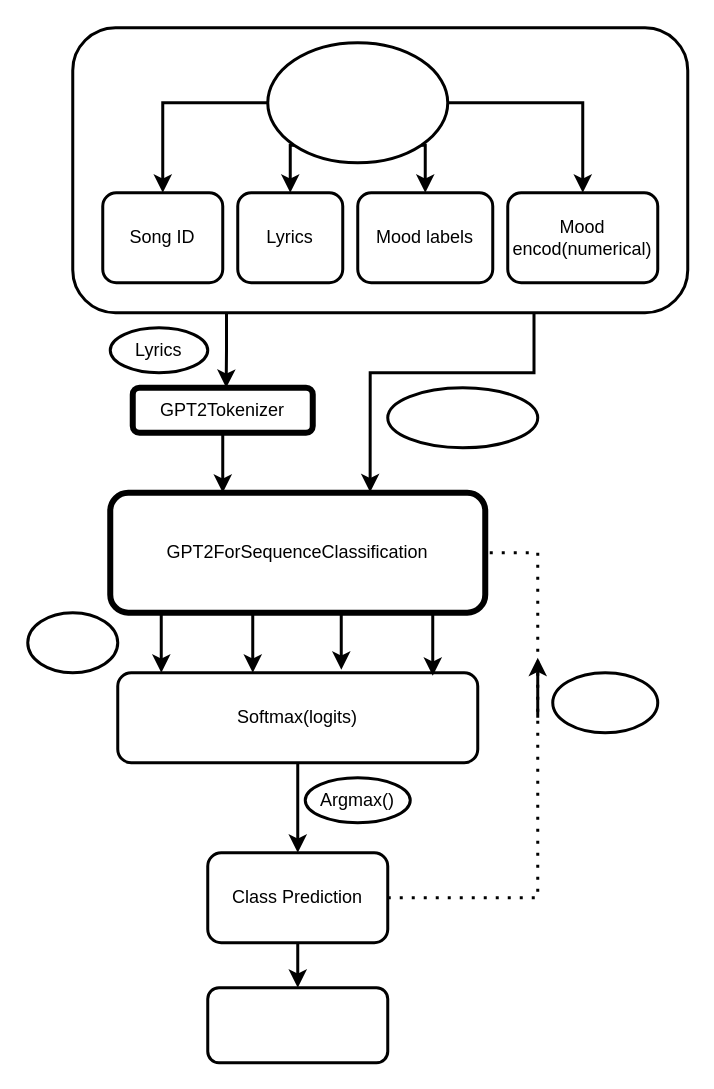
The diagram is 714 pixels wide and 1089 high, and some of its shapes have lost their labels. Each missing label, with the centre of its shape:
"four classes" goes at point (72, 642).
"Lyrical Dataset" goes at point (357, 102).
"Metrics" goes at point (297, 1025).
"Numerical labels" goes at point (462, 417).
"Training" goes at point (604, 702).
